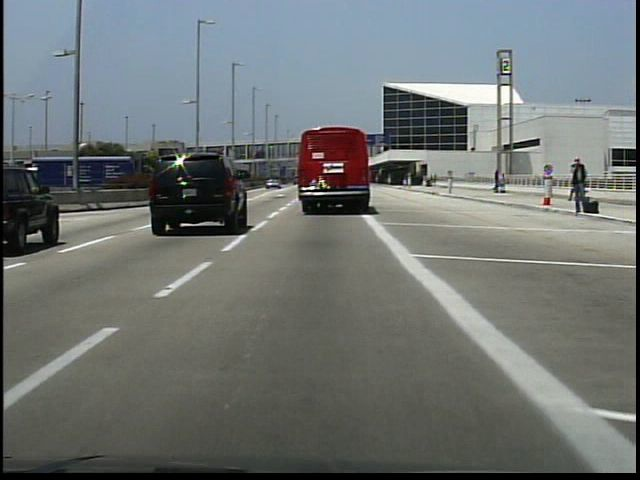person: (567, 153, 591, 218), (567, 173, 590, 206)
